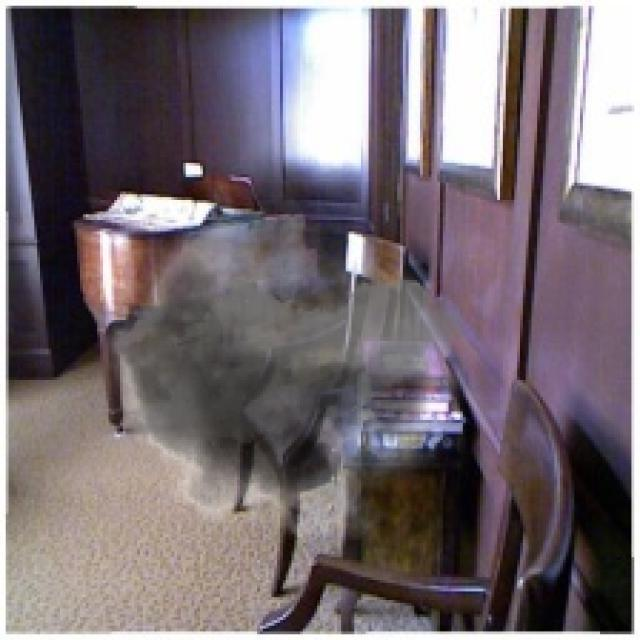Smoke: (86, 177, 466, 560)
